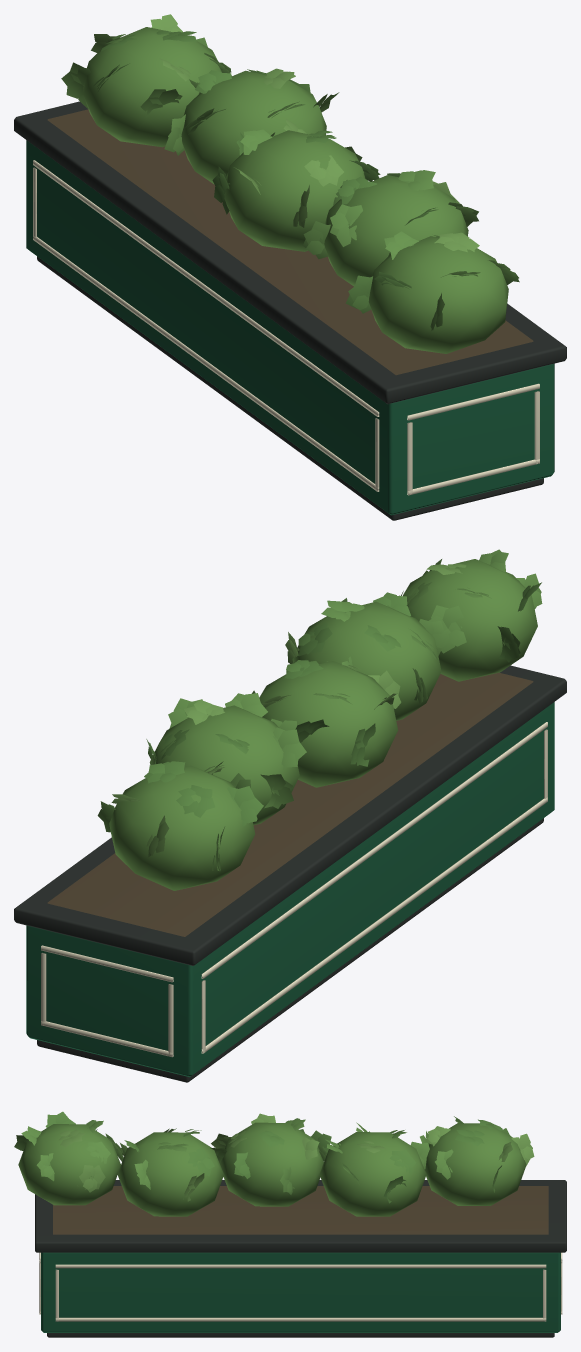
Rendered from edge_planter.glb.
The picture shows the model from 3 angles, top to bottom: view 1: azimuth 30°, elevation 25°; view 2: azimuth 150°, elevation 25°; view 3: azimuth 270°, elevation 25°; orthographic projection. The views are drawn at different scales.
Parts seen in each view (by area): view 1: PlanterBox, PlanterRim, PlanterSoil, Shrub4Core, Shrub2Core, Shrub0Core, Shrub1Core, Shrub3Core, PlanterFeet, PlanterInlayX-1T, PlanterInlayX-1B, Shrub3Leaves4 (+6 smaller); view 2: PlanterBox, PlanterSoil, PlanterRim, Shrub0Core, Shrub2Core, Shrub4Core, Shrub3Core, Shrub1Core, PlanterFeet, PlanterInlayX-1T, PlanterInlayX-1B, Shrub4Leaves6 (+7 smaller); view 3: PlanterBox, PlanterSoil, PlanterRim, Shrub1Core, Shrub3Core, Shrub2Core, Shrub0Core, Shrub4Core, PlanterFeet, PlanterInlayX1T, PlanterInlayX1B, Shrub4Leaves8 (+9 smaller).
Boxes of the visible parts, x1,y1,x2,y2 form: PlanterBox: (26,140,554,515); PlanterRim: (14,101,566,404); PlanterSoil: (47,109,533,375); Shrub4Core: (368,236,508,353); Shrub2Core: (224,130,365,251); Shrub0Core: (83,27,221,147); Shrub1Core: (181,70,326,184); Shrub3Core: (324,175,468,286); PlanterFeet: (37,256,543,520); PlanterInlayX-1T: (33,160,379,416); PlanterInlayX-1B: (33,236,379,491); Shrub3Leaves4: (330,204,362,246); PlanterBox: (26,702,554,1077); PlanterSoil: (47,672,533,936); PlanterRim: (14,665,566,965); Shrub0Core: (109,765,255,890); Shrub2Core: (259,661,398,787); Shrub4Core: (403,559,537,681); Shrub3Core: (292,601,441,720); Shrub1Core: (149,705,299,824); PlanterFeet: (37,818,543,1082); PlanterInlayX-1T: (201,722,547,978); PlanterInlayX-1B: (201,797,547,1053); Shrub4Leaves6: (429,605,466,653); PlanterBox: (41,1252,560,1332); PlanterSoil: (53,1186,548,1234); PlanterRim: (35,1180,566,1252); Shrub1Core: (319,1132,426,1216); Shrub3Core: (117,1132,223,1216); Shrub2Core: (220,1122,323,1206); Shrub0Core: (424,1123,526,1205); Shrub4Core: (18,1124,120,1205); PlanterFeet: (47,1333,554,1337); PlanterInlayX1T: (55,1264,546,1268); PlanterInlayX1B: (55,1317,546,1321); Shrub4Leaves8: (77,1165,105,1192).
Bounding box in the file's own units: 0.6121 × 0.8179 × 2.27.
